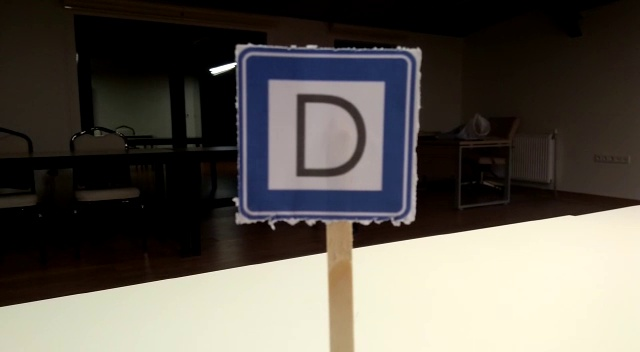durak: (238, 50, 417, 223)
